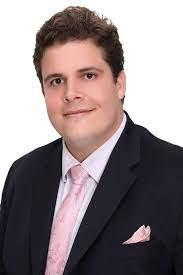not_helmet: (26, 3, 130, 149)
not_reflective: (0, 120, 183, 275)
